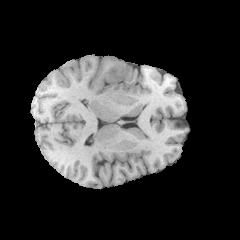glioma: (82, 63, 129, 116)
